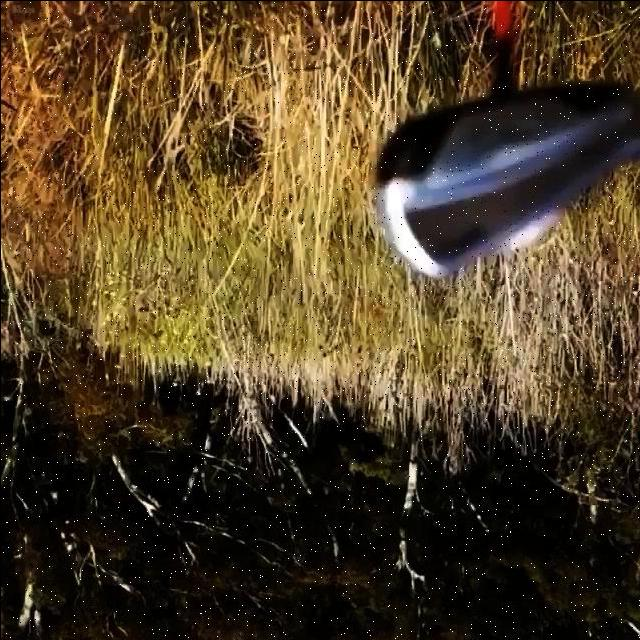golf ball: (501, 208, 559, 251)
golf club-handle: (371, 0, 640, 282)
golf club-head: (369, 83, 640, 281)
